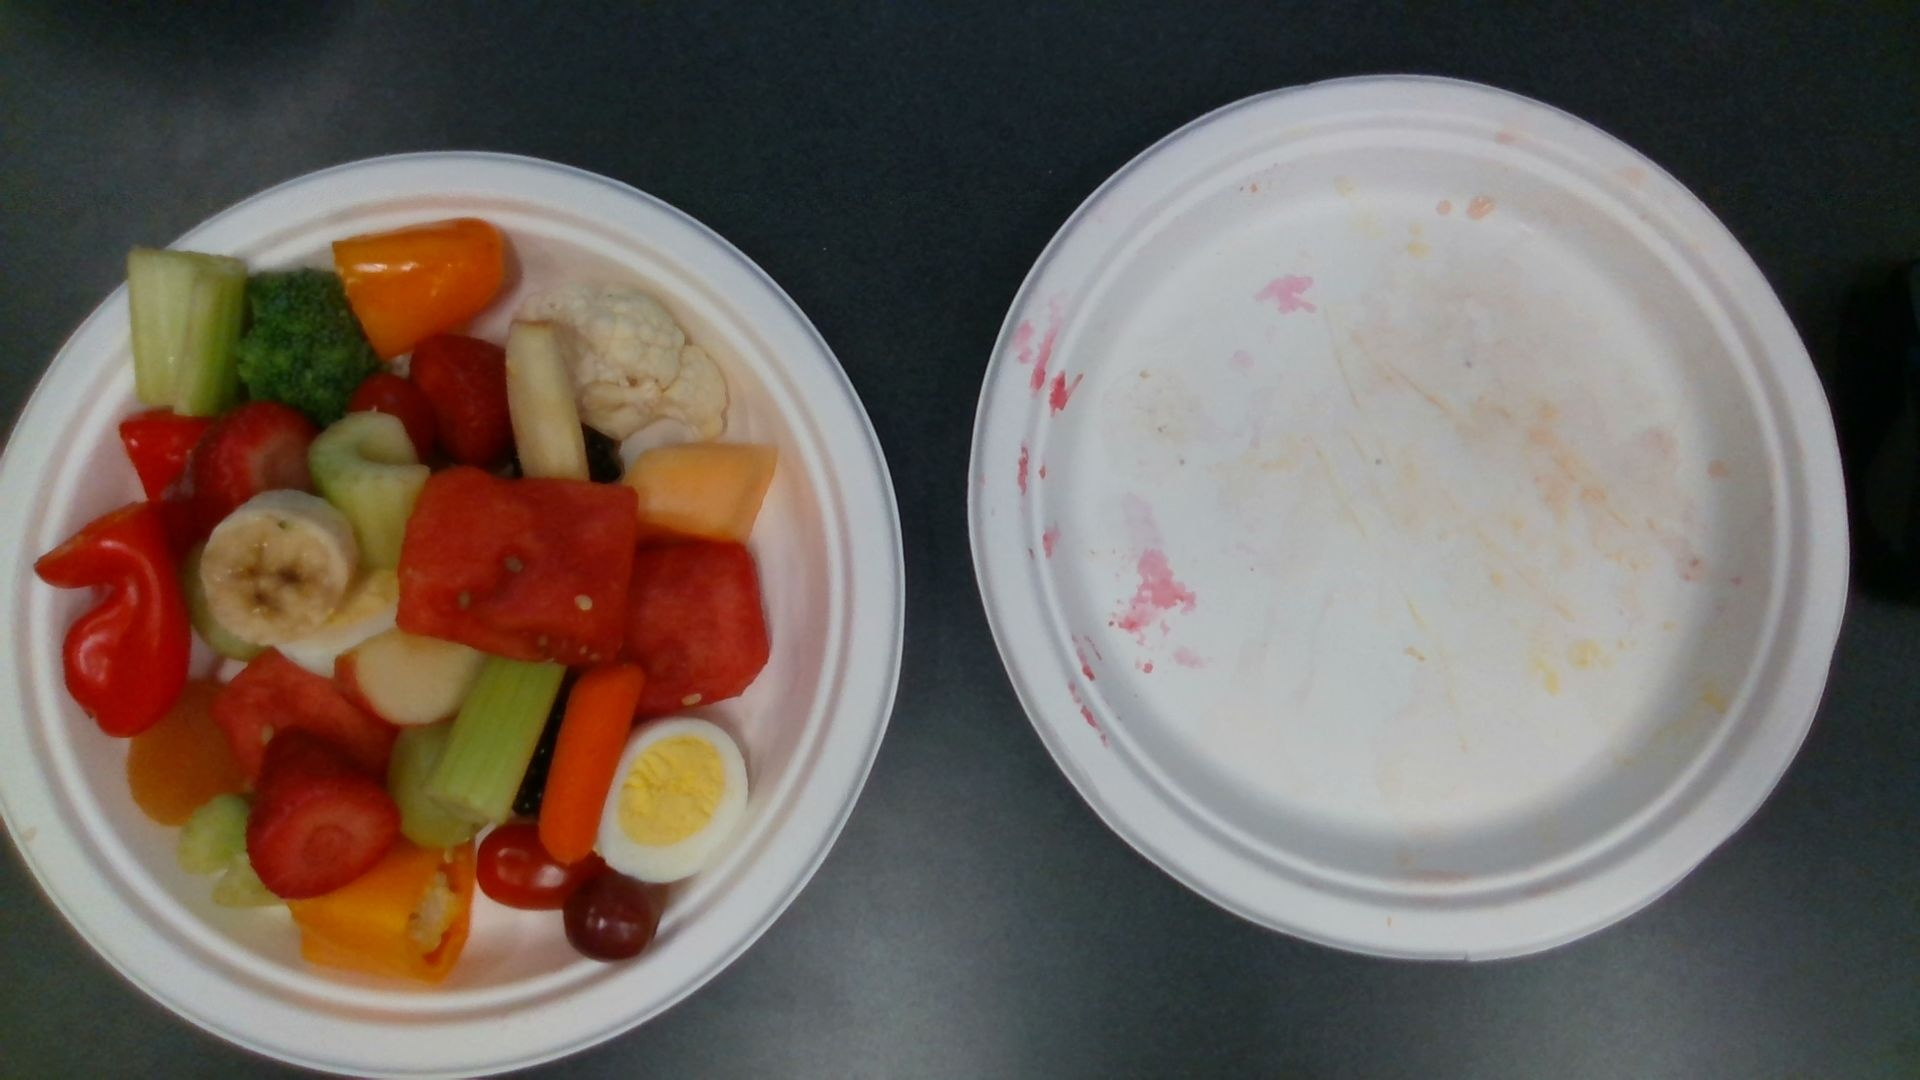apple: (505, 316, 593, 480), (339, 630, 479, 720)
apricot: (127, 694, 225, 825)
banana: (202, 493, 353, 636)
bell_pepper: (37, 505, 193, 731), (287, 835, 475, 976), (334, 220, 517, 353)
broccoli: (229, 273, 369, 413)
cantalope: (634, 443, 781, 535)
carrot: (537, 666, 644, 861)
cauliflower: (522, 284, 729, 446)
celery: (427, 661, 564, 818), (127, 243, 244, 418), (310, 413, 425, 560), (179, 793, 284, 910)
cherry_tomato: (480, 825, 584, 906)
egg: (595, 716, 749, 884)
grape_purple: (564, 873, 655, 965)
melon: (400, 468, 637, 658), (218, 650, 396, 798), (620, 545, 770, 711)
strawberry: (251, 731, 400, 899), (177, 406, 310, 525), (409, 331, 520, 468)
